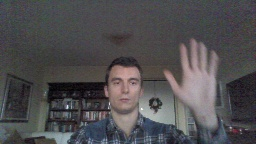Mano_aperta: (161, 35, 222, 117)
